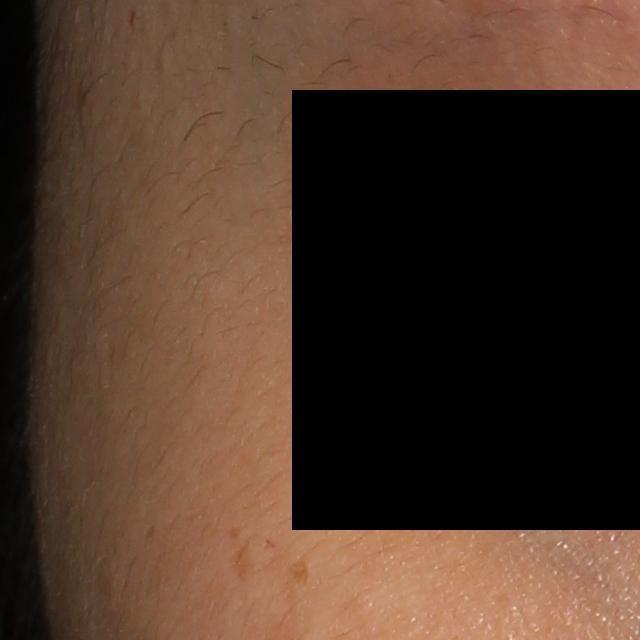melasma: (227, 531, 263, 590), (284, 553, 313, 594), (227, 519, 248, 540)
